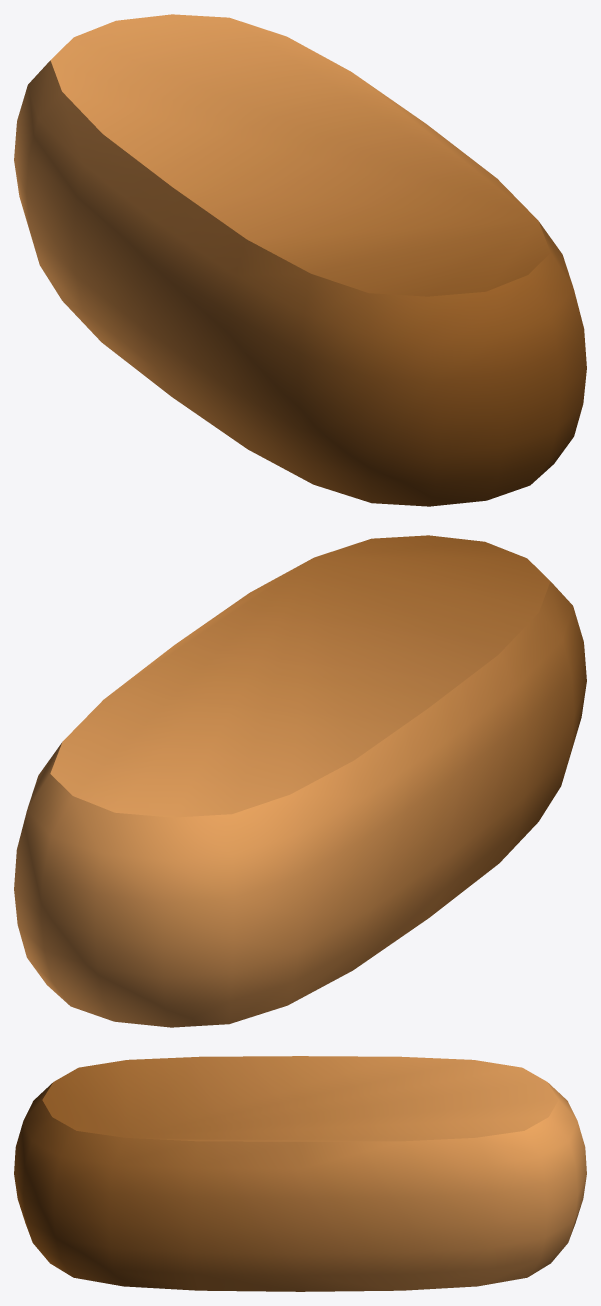
The model's file is Bread_1 Tall.fbx.
3 renders of one model, top to bottom at view 1: azimuth 30°, elevation 25°; view 2: azimuth 150°, elevation 25°; view 3: azimuth 270°, elevation 25°, orthographic. The views are drawn at different scales.
Visible parts, largest first — view 1: Bread_1 Tall; view 2: Bread_1 Tall; view 3: Bread_1 Tall.
Boxes of the visible parts, x1,y1,x2,y2 form: Bread_1 Tall: [14, 14, 586, 506]; Bread_1 Tall: [14, 535, 586, 1027]; Bread_1 Tall: [14, 1056, 586, 1291].
Size of the model in its own units: 0.089 by 0.0601 by 0.2078.
1 material, 1 textured.
